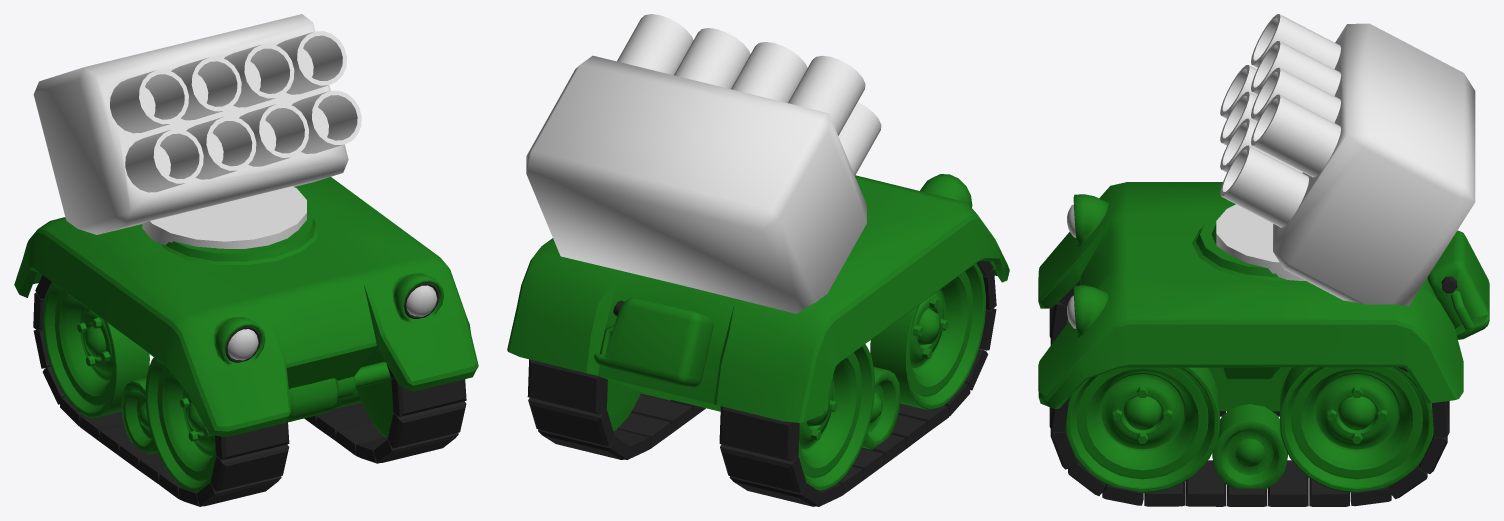
Rendered from Rocket.FBX.
3 renders of one model, left to right at view 1: azimuth 30°, elevation 25°; view 2: azimuth 150°, elevation 25°; view 3: azimuth 270°, elevation 25°, orthographic. The views are drawn at different scales.
Parts seen in each view (by area): view 1: TankChassis, ChamferBox001, TankTracksRight, TankTracksLeft; view 2: ChamferBox001, TankChassis, TankTracksRight, TankTracksLeft; view 3: TankChassis, ChamferBox001, TankTracksLeft, TankTracksRight.
Part boxes in pixels (box(x1,y1,x2,y2)): TankChassis: box(14, 177, 478, 453); ChamferBox001: box(33, 14, 361, 248); TankTracksRight: box(33, 275, 289, 506); TankTracksLeft: box(304, 346, 466, 463); ChamferBox001: box(526, 14, 881, 313); TankChassis: box(507, 174, 1009, 449); TankTracksRight: box(719, 261, 996, 506); TankTracksLeft: box(527, 359, 705, 459); TankChassis: box(1038, 182, 1489, 489); ChamferBox001: box(1216, 14, 1475, 306); TankTracksLeft: box(1049, 367, 1449, 506); TankTracksRight: box(1049, 281, 1279, 416).
Size of the model in its own units: 71.56 by 88.72 by 93.14.
